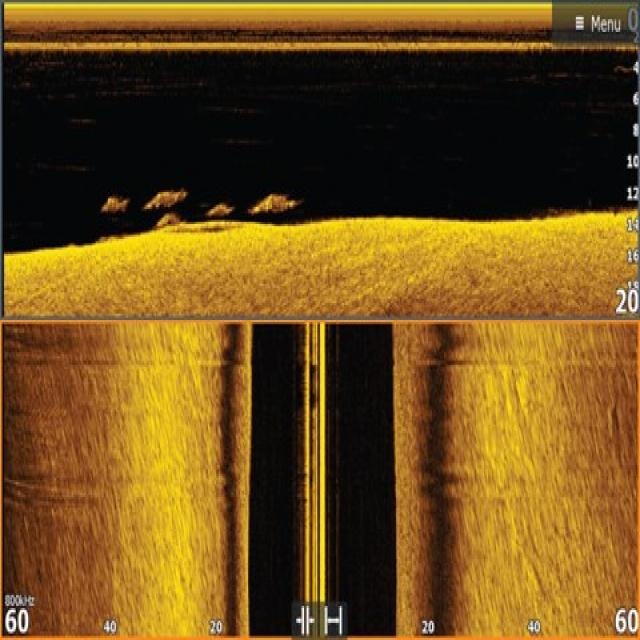fish: (245, 186, 300, 213), (142, 184, 186, 209), (96, 186, 129, 216), (203, 196, 233, 218), (154, 211, 178, 226)
